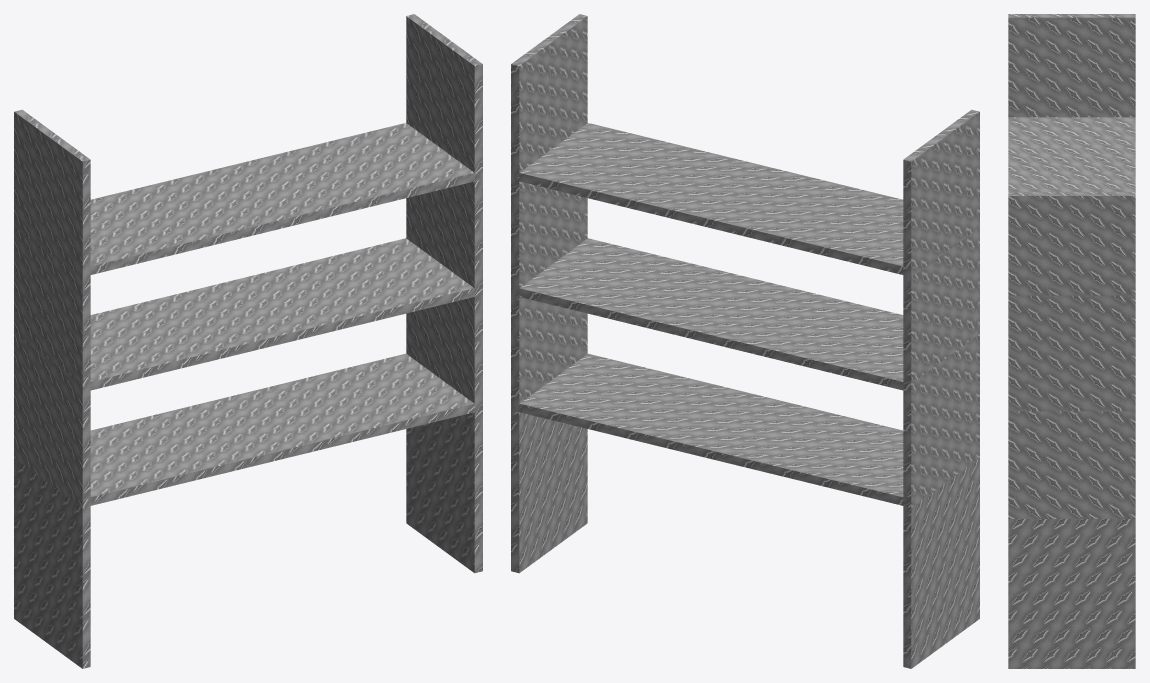
The model's file is metal_shelving.fbx.
3 views of the same model, side by side, from view 1: azimuth 30°, elevation 25°; view 2: azimuth 150°, elevation 25°; view 3: azimuth 270°, elevation 25° (orthographic). The views are drawn at different scales.
Visible parts, largest first — view 1: Metal Shelving; view 2: Metal Shelving; view 3: Metal Shelving.
Part boxes in pixels (x1=…): Metal Shelving: x1=14, y1=14, x2=482, y2=668; Metal Shelving: x1=511, y1=14, x2=979, y2=668; Metal Shelving: x1=1008, y1=14, x2=1135, y2=668.
Bounding box in the file's own units: 2.53 × 0.75 × 3.07.
Materials: 1 (1 with a texture image).
